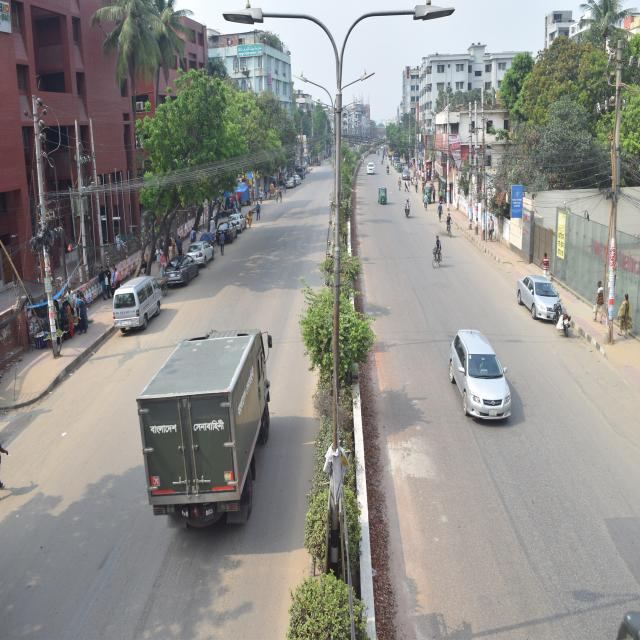car: (510, 261, 563, 326), (162, 250, 200, 293), (184, 235, 217, 270), (211, 214, 238, 255), (220, 207, 251, 242), (362, 156, 379, 182)
microbus: (447, 314, 517, 424), (106, 273, 169, 335)
motorbike: (546, 292, 573, 334), (402, 200, 414, 220)
pickup-van: (130, 329, 284, 535)
